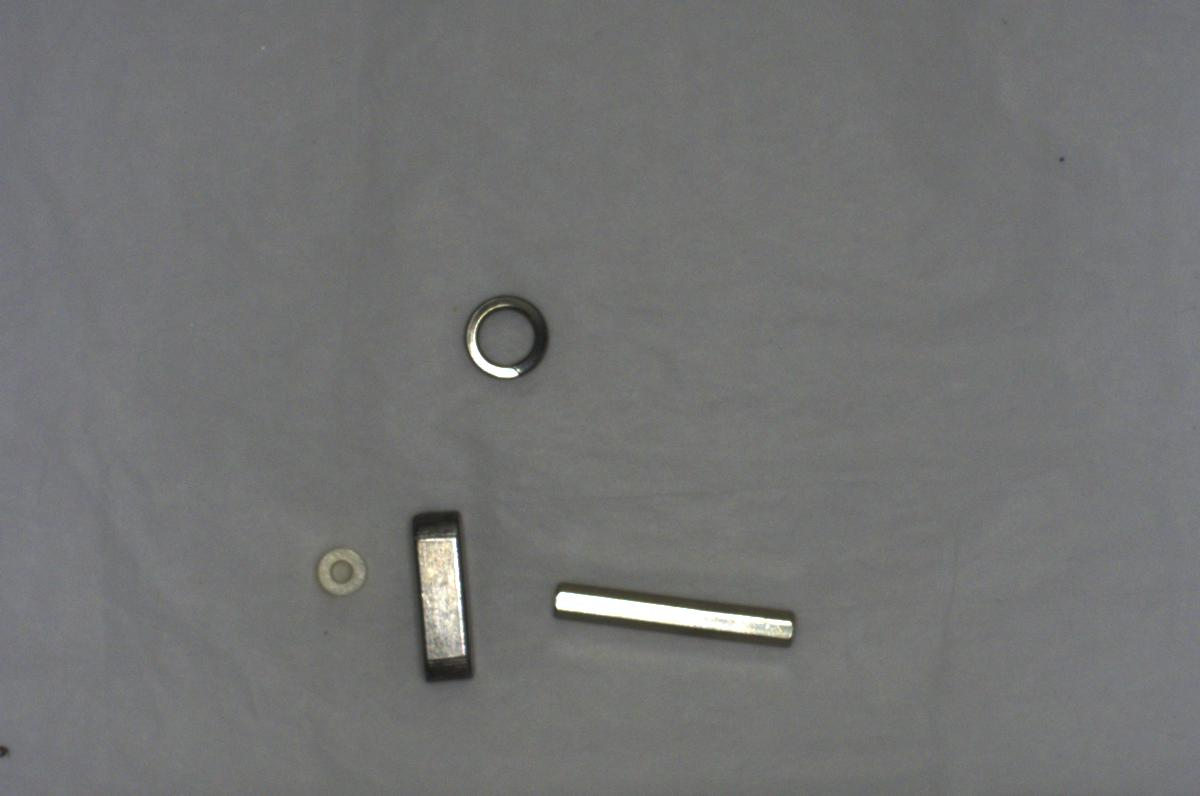Double hexagonal column: (540, 576, 807, 654)
Keybar: (402, 505, 477, 686)
Plastic cushion pillar: (301, 529, 372, 595)
Spring washer: (455, 285, 558, 392)
